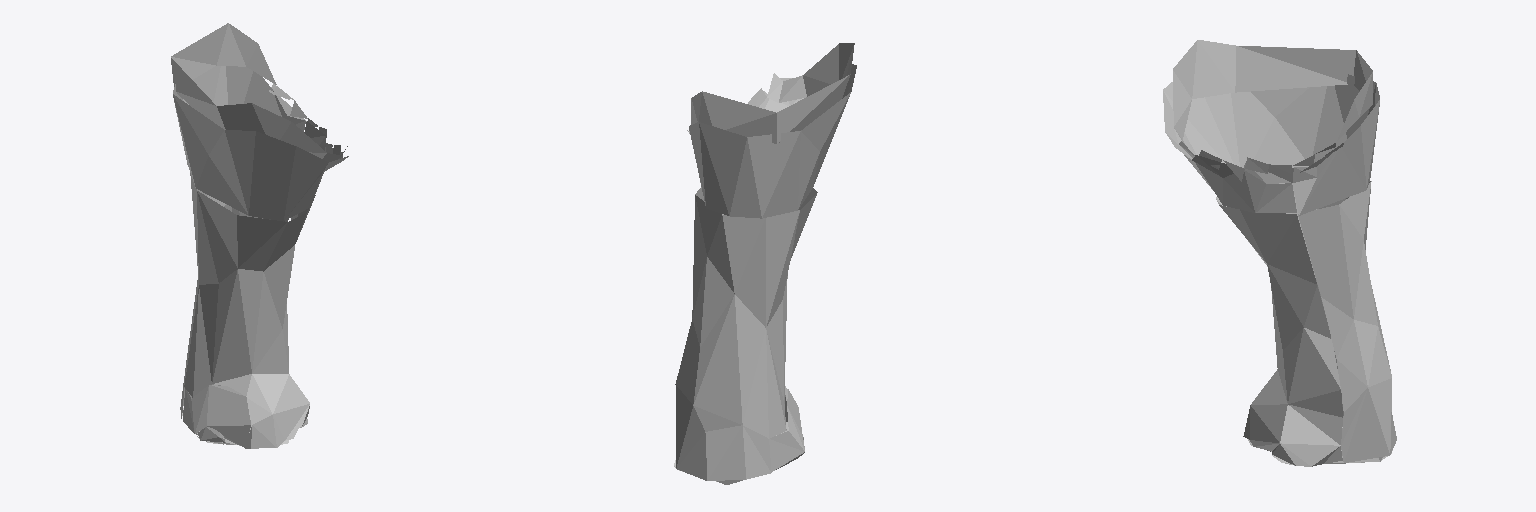
The model's file is elefante_pata_der_atras.obj.
The picture shows the model from 3 angles: view 1: azimuth 30°, elevation 25°; view 2: azimuth 150°, elevation 25°; view 3: azimuth 270°, elevation 25°; orthographic projection.
Parts seen in each view (by area): view 1: elefante_pata_der_atras; view 2: elefante_pata_der_atras; view 3: elefante_pata_der_atras.
Boxes of the visible parts, <box> form: elefante_pata_der_atras: <box>171,23,348,448</box>; elefante_pata_der_atras: <box>674,43,856,484</box>; elefante_pata_der_atras: <box>1163,40,1396,466</box>.
Bounding box in the file's own units: 0.4544 × 1.38 × 0.7563.